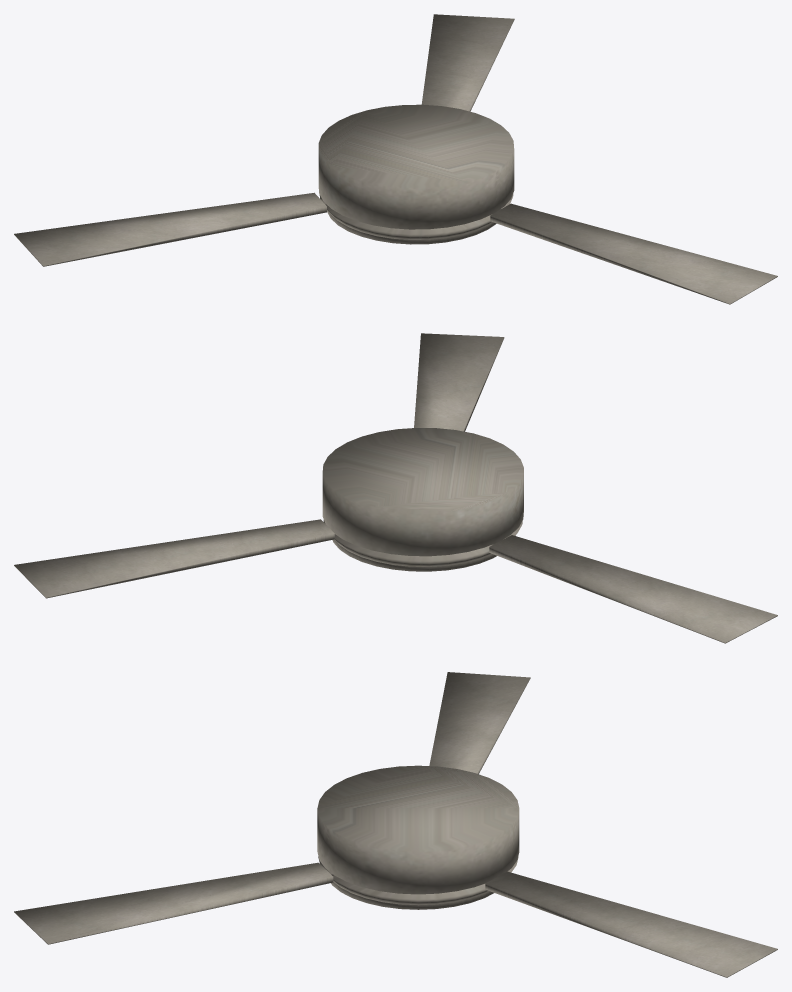
File: Ventilador.obj
3 views of the same model, one above another, from view 1: azimuth 30°, elevation 25°; view 2: azimuth 150°, elevation 25°; view 3: azimuth 270°, elevation 25° (orthographic). The views are drawn at different scales.
Visible parts, largest first — view 1: polySurface2 Mesh; view 2: polySurface2 Mesh; view 3: polySurface2 Mesh.
Part boxes in pixels (x1,y1,x2,y2): polySurface2 Mesh: [14, 14, 777, 304]; polySurface2 Mesh: [14, 333, 777, 643]; polySurface2 Mesh: [14, 672, 777, 977].
Bounding box in the file's own units: 6.91 × 0.6563 × 7.31.
Materials: 1 (1 with a texture image).
